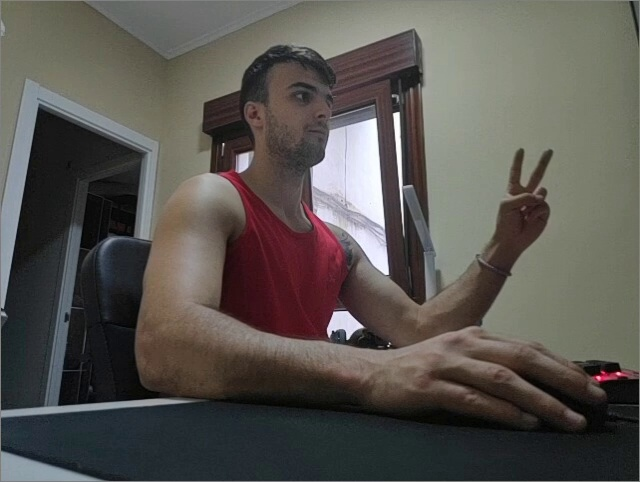Peace: (493, 146, 557, 246)
